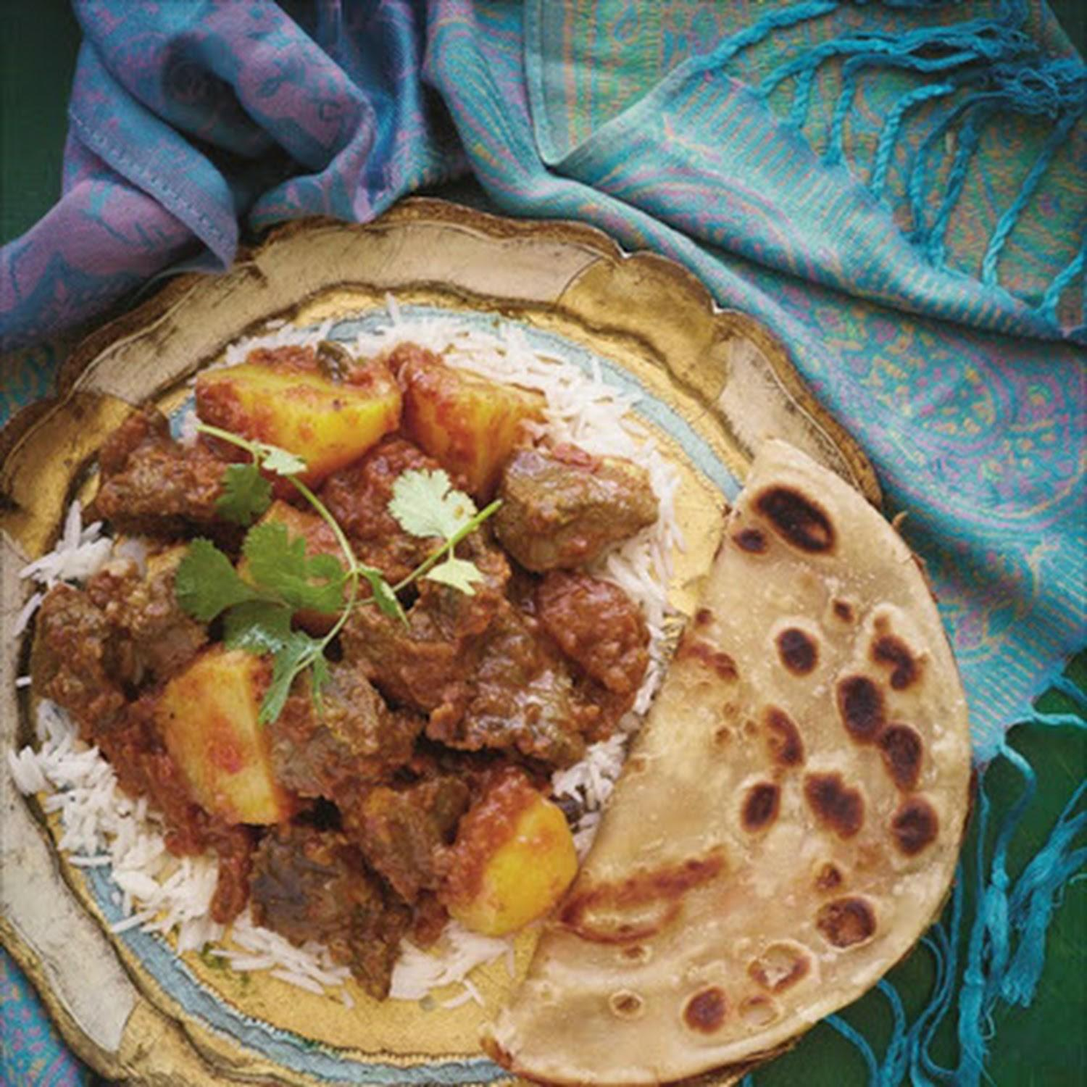MuttonCurry: (35, 327, 665, 1000)
